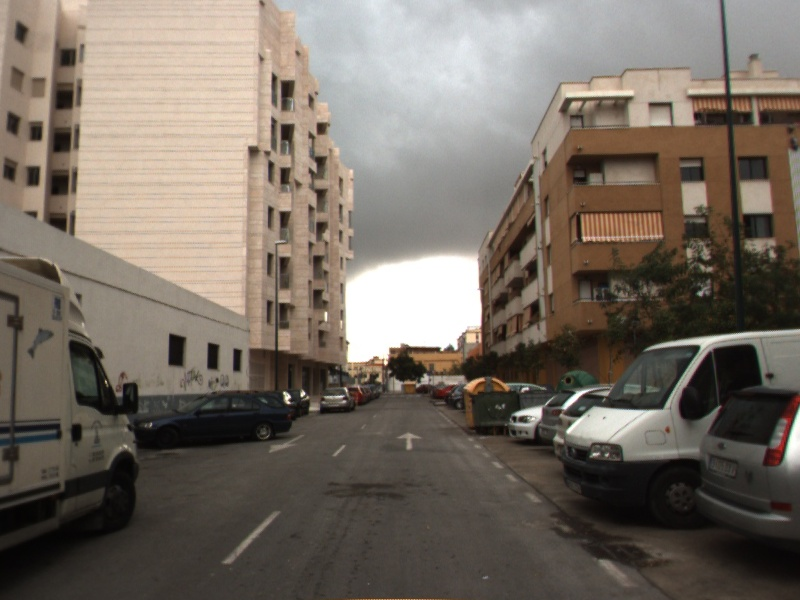STRAIGHT: (394, 429, 426, 453)
